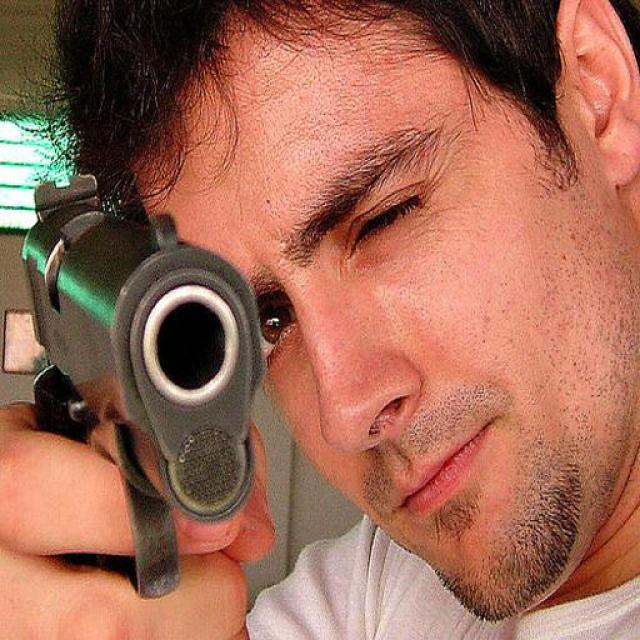pistol: (20, 175, 252, 600)
